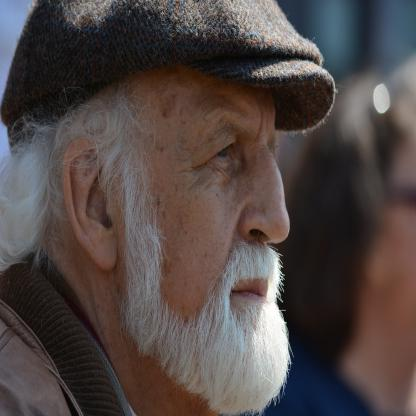Eye: (200, 126, 242, 178)
Mouth: (227, 261, 283, 317)
Nose: (238, 161, 295, 248)
